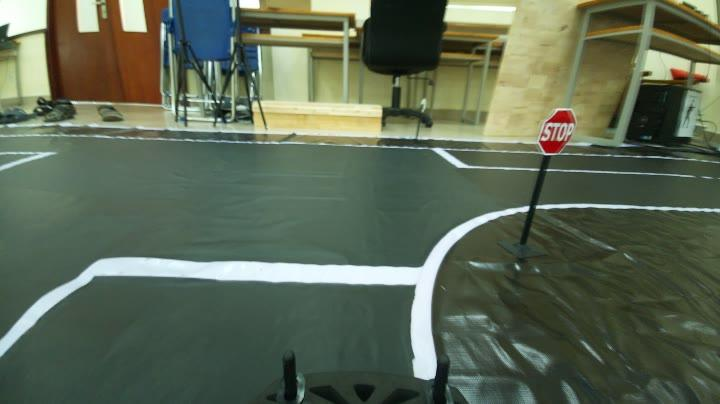stop: (534, 106, 582, 158)
